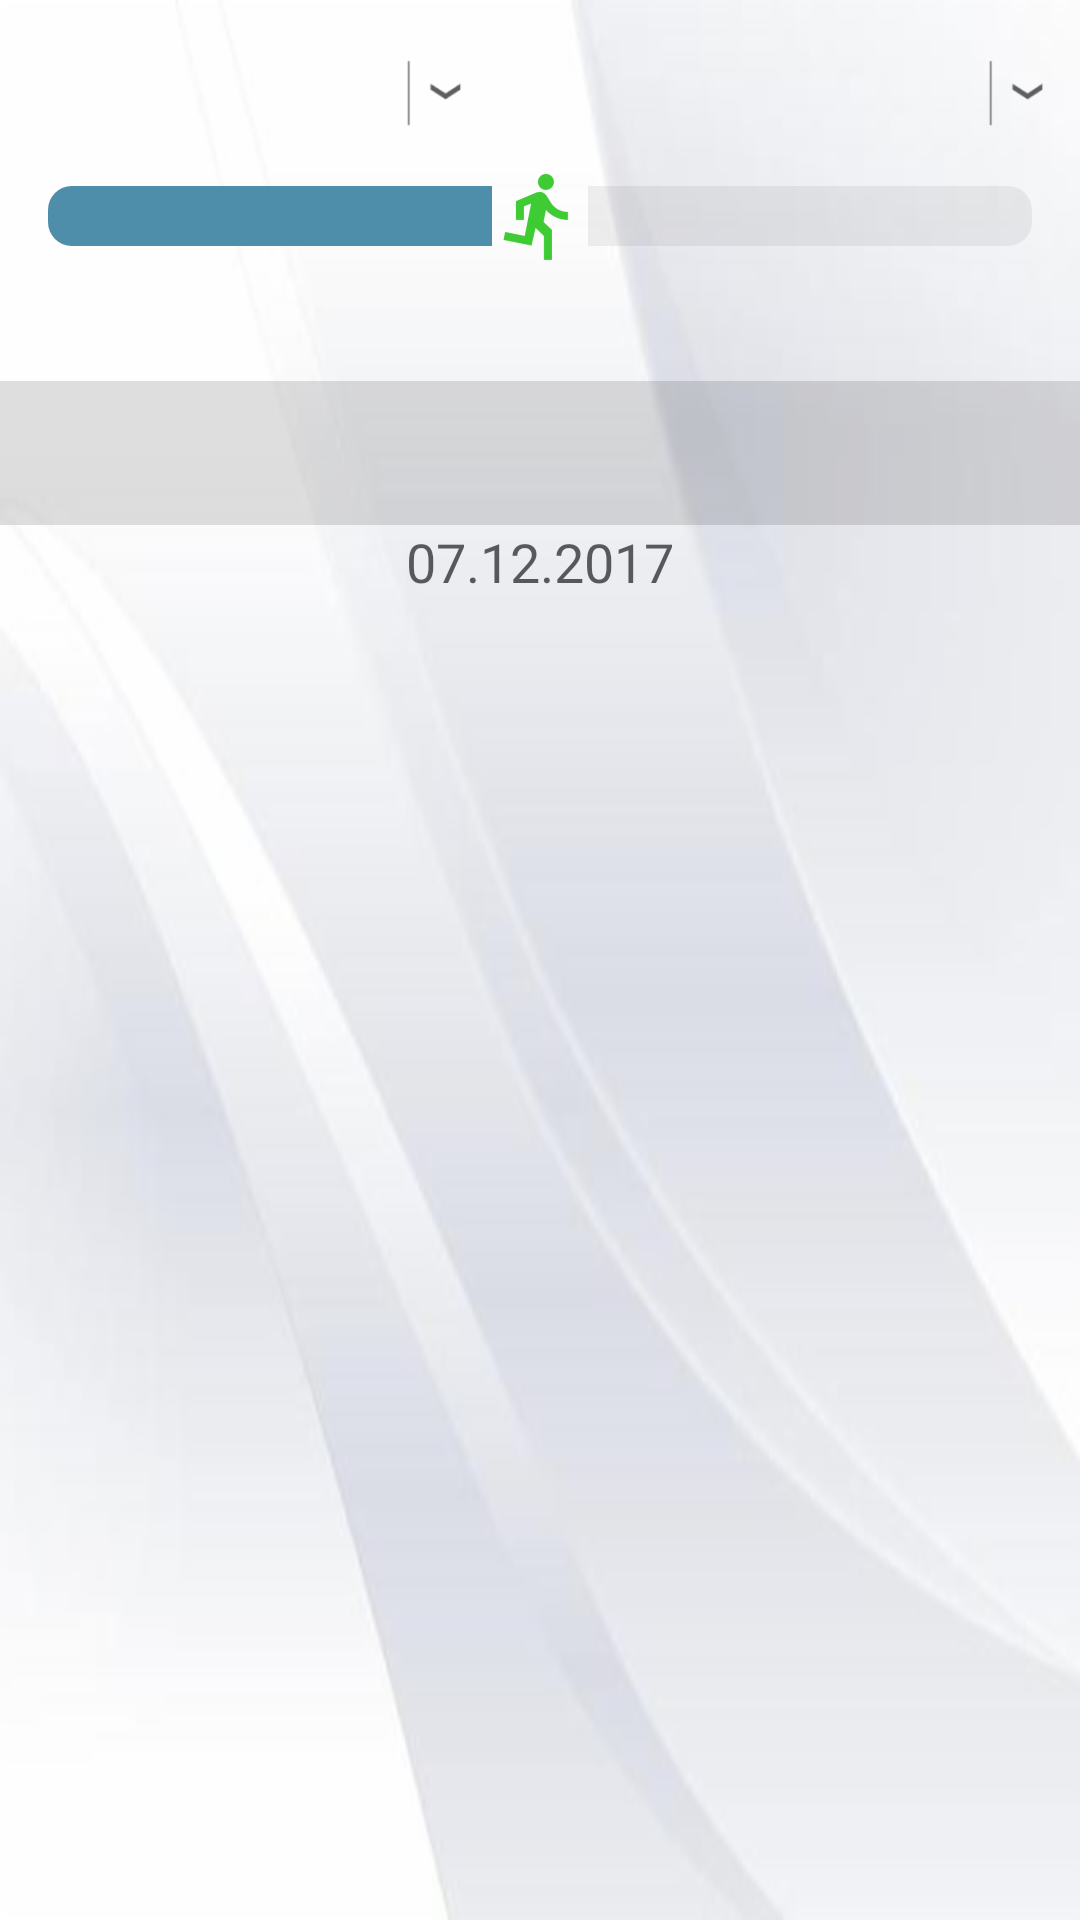

Icons on this 1080*1920 Android screen, each with its box as {"left": x1, "top": y1, "right": x2, "bottom": y2}:
spinner drop: {"left": 407, "top": 61, "right": 461, "bottom": 126}, {"left": 989, "top": 61, "right": 1043, "bottom": 126}
